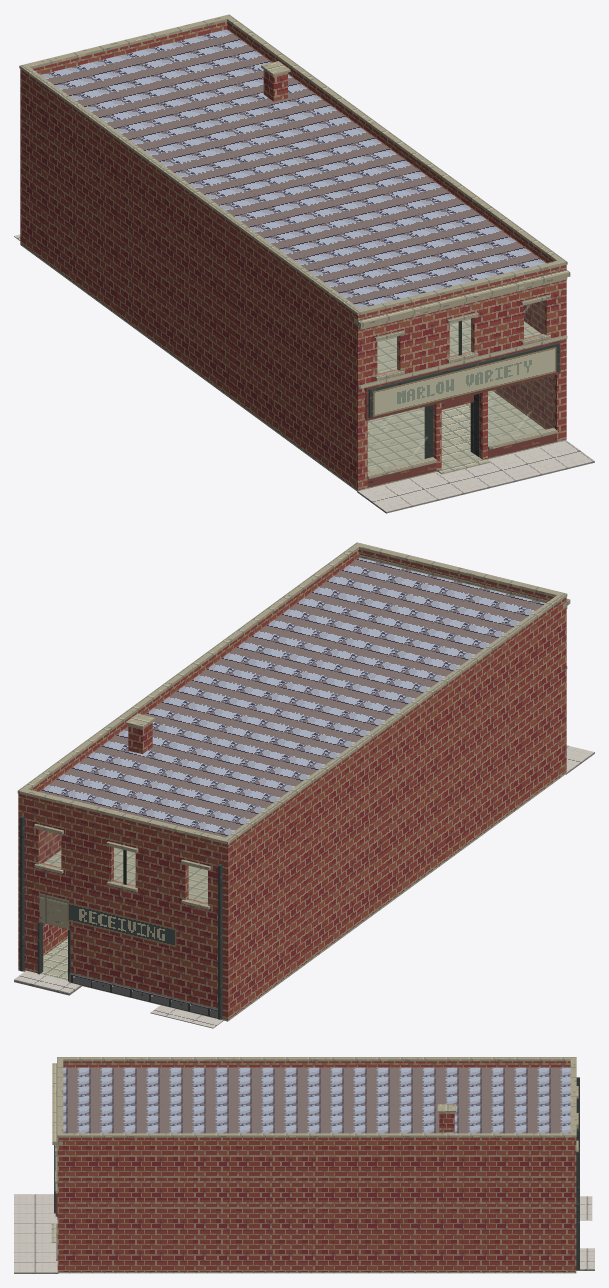
The model's file is marlow-1970-far.glb.
3 renders of one model, top to bottom at view 1: azimuth 30°, elevation 25°; view 2: azimuth 150°, elevation 25°; view 3: azimuth 270°, elevation 25°, orthographic. The views are drawn at different scales.
Parts seen in each view (by area): view 1: building_shell, roof_and_parapet, Shared street sidewalk, sign_name; view 2: building_shell, roof_and_parapet, sign_receiving, Rear receiving pad, lot; view 3: building_shell, roof_and_parapet, Shared street sidewalk, Rear receiving pad, lot.
Boxes of the visible parts, x1,y1,x2,y2 form: building_shell: [20, 29, 567, 491]; roof_and_parapet: [19, 14, 570, 329]; Shared street sidewalk: [357, 440, 594, 513]; sign_name: [373, 347, 556, 416]; building_shell: [18, 557, 567, 1021]; roof_and_parapet: [17, 542, 570, 854]; sign_receiving: [67, 902, 176, 947]; Rear receiving pad: [14, 970, 81, 995]; lot: [150, 1005, 223, 1028]; building_shell: [51, 1067, 579, 1273]; roof_and_parapet: [52, 1057, 576, 1147]; Shared street sidewalk: [14, 1194, 58, 1273]; Rear receiving pad: [576, 1248, 594, 1270]; lot: [580, 1196, 592, 1220].
Size of what is drawn, in the model's own units: 10.05 by 9.06 by 31.36.
10 materials, 10 textured.
